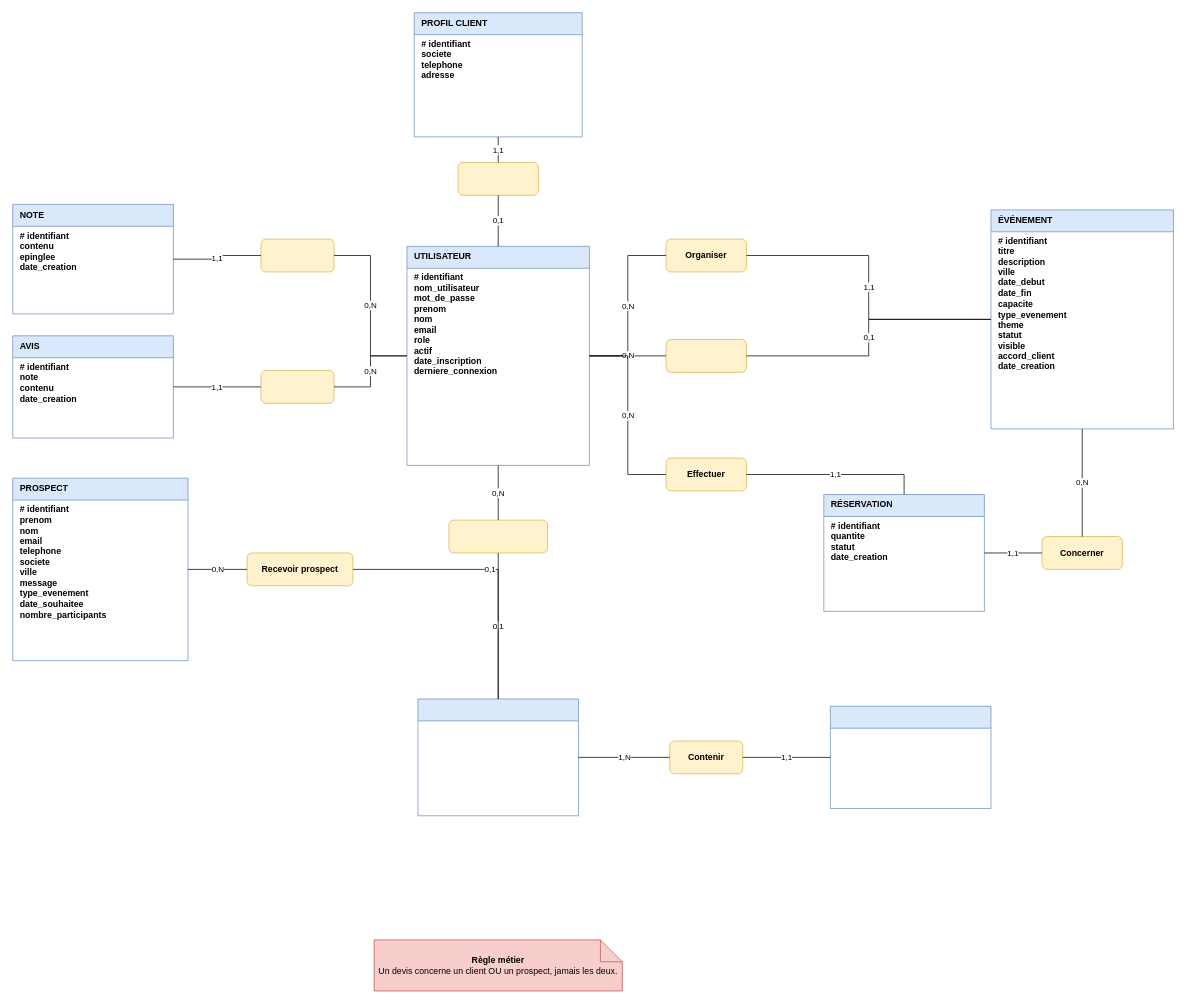
The diagram is 1186 pixels wide and 1004 high, and some of its shapes have lost their labels. The shapes that lost their labels are listed below. From the top down, each one's centre as x and y in pixels, then its label:
At (x=497, y=178): "Posséder".
At (x=297, y=255): "Rédiger".
At (x=705, y=355): "Être client".
At (x=297, y=386): "Publier".
At (x=498, y=536): "Recevoir client".
At (x=498, y=757): "DEVIS # identifiant statut taux_tva date_creation".
At (x=910, y=757): "LIGNE DE DEVIS # identifiant libelle montant_ht".
